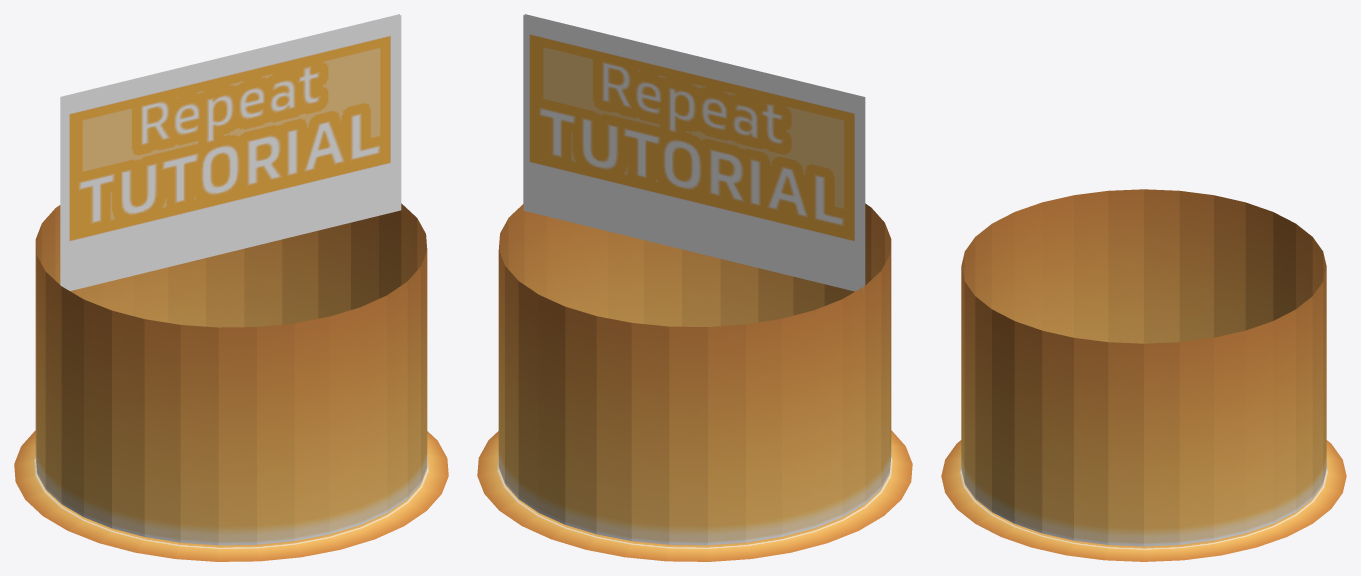
The model's file is Restart-Tutorial.fbx.
The picture shows the model from 3 angles, left to right: view 1: azimuth 30°, elevation 25°; view 2: azimuth 150°, elevation 25°; view 3: azimuth 270°, elevation 25°; orthographic projection. The views are drawn at different scales.
Visible parts, largest first — view 1: Circle, Plane; view 2: Circle, Plane; view 3: Circle.
Part boxes in pixels (x1,y1,x2,y2): Circle: (14,203,448,561); Plane: (60,14,401,290); Circle: (477,203,912,561); Plane: (523,14,865,293); Circle: (941,189,1346,561).
Bounding box in the file's own units: 222 × 233 × 222.
1 material, 1 textured.
